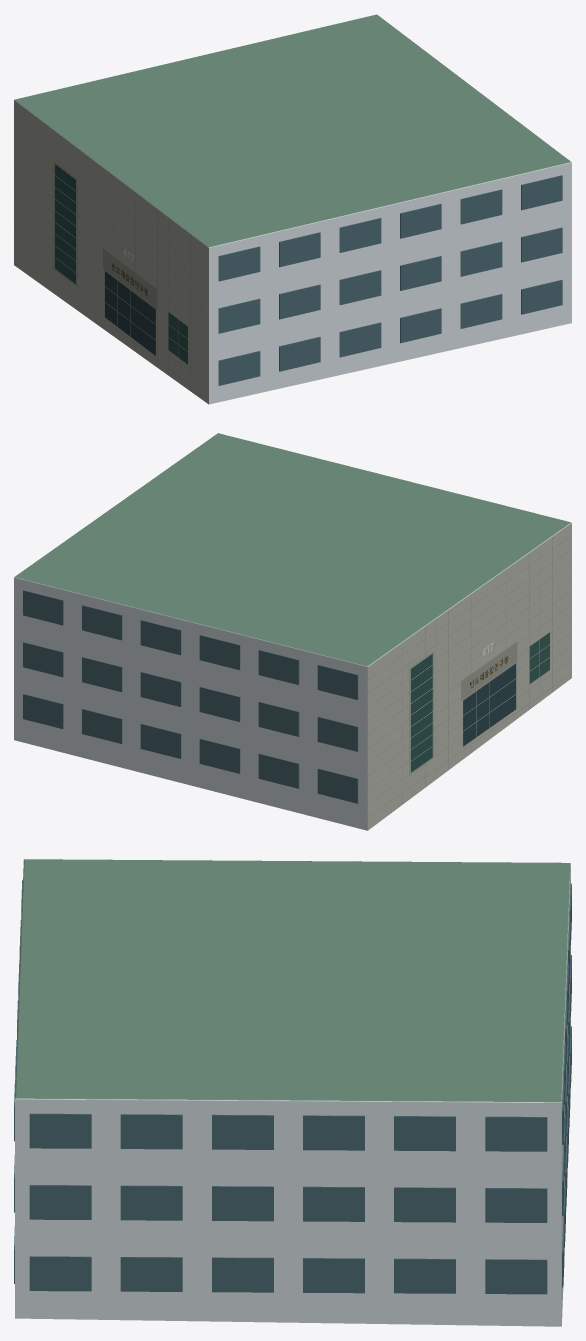
Rendered from intact.glb.
The picture shows the model from 3 angles, top to bottom: view 1: azimuth 30°, elevation 25°; view 2: azimuth 150°, elevation 25°; view 3: azimuth 270°, elevation 25°; orthographic projection. The views are drawn at different scales.
Visible parts, largest first — view 1: SM_semi_Intact_00, SM_semi_Intact_01; view 2: SM_semi_Intact_00, SM_semi_Intact_01; view 3: SM_semi_Intact_00, SM_semi_Intact_01.
Part boxes in pixels (x1,y1,x2,y2): SM_semi_Intact_00: (14, 14, 571, 404); SM_semi_Intact_01: (218, 175, 562, 385); SM_semi_Intact_00: (14, 433, 571, 830); SM_semi_Intact_01: (23, 590, 358, 803); SM_semi_Intact_00: (15, 859, 570, 1326); SM_semi_Intact_01: (14, 880, 571, 1294).
Size of the model in its own units: 2.2 by 0.9519 by 2.13.
4 materials, 1 textured.
